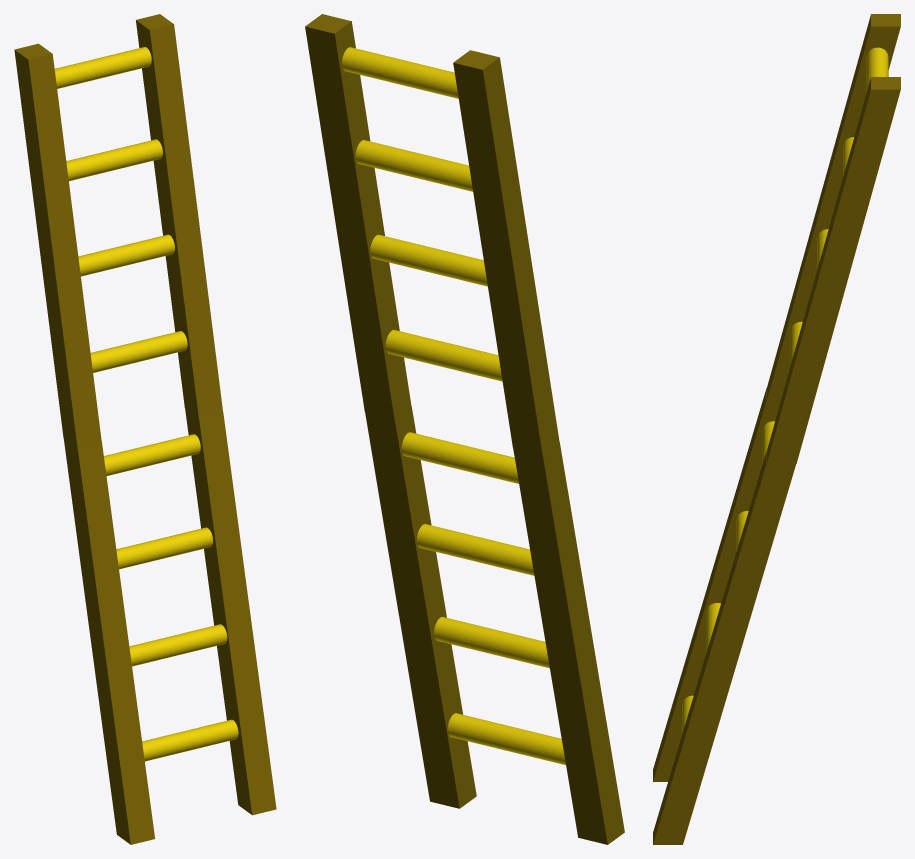
The model's file is ladder-model-v3.fbx.
The picture shows the model from 3 angles, left to right: view 1: azimuth 30°, elevation 25°; view 2: azimuth 150°, elevation 25°; view 3: azimuth 270°, elevation 25°; orthographic projection. The views are drawn at different scales.
Visible parts, largest first — view 1: pCube5, pCube1, pCube6, pCube2, pCylinder9, pCylinder4, pCylinder1, pCylinder11, pCylinder3, pCylinder2, pCylinder10, pCylinder12; view 2: pCube1, pCube5, pCube2, pCube6, pCylinder12, pCylinder2, pCylinder3, pCylinder10, pCylinder11, pCylinder4, pCylinder1, pCylinder9; view 3: pCube2, pCube6, pCube1, pCube5, pCylinder1.
Part boxes in pixels (bbox=[...]): pCube5: bbox=[63, 437, 154, 844]; pCube1: bbox=[14, 43, 101, 447]; pCube6: bbox=[185, 407, 276, 815]; pCube2: bbox=[136, 14, 222, 417]; pCylinder9: bbox=[129, 624, 227, 666]; pCylinder4: bbox=[90, 331, 187, 372]; pCylinder1: bbox=[54, 47, 151, 88]; pCylinder11: bbox=[104, 434, 200, 475]; pCylinder3: bbox=[78, 234, 174, 276]; pCylinder2: bbox=[66, 139, 162, 181]; pCylinder10: bbox=[116, 527, 212, 569]; pCylinder12: bbox=[142, 719, 238, 761]; pCube1: bbox=[453, 50, 559, 455]; pCube5: bbox=[513, 442, 624, 844]; pCube2: bbox=[305, 14, 411, 419]; pCube6: bbox=[365, 407, 476, 808]; pCylinder12: bbox=[447, 713, 565, 764]; pCylinder2: bbox=[355, 140, 472, 191]; pCylinder3: bbox=[370, 234, 487, 286]; pCylinder10: bbox=[416, 524, 534, 575]; pCylinder11: bbox=[401, 432, 518, 483]; pCylinder4: bbox=[385, 329, 502, 381]; pCylinder1: bbox=[341, 47, 458, 98]; pCylinder9: bbox=[434, 617, 549, 668]; pCube2: bbox=[767, 77, 900, 463]; pCube6: bbox=[653, 451, 795, 844]; pCube1: bbox=[767, 14, 900, 400]; pCube5: bbox=[653, 388, 780, 781]; pCylinder1: bbox=[866, 47, 888, 91].
Bounding box in the file's own units: 30.91 × 144 × 42.8.
